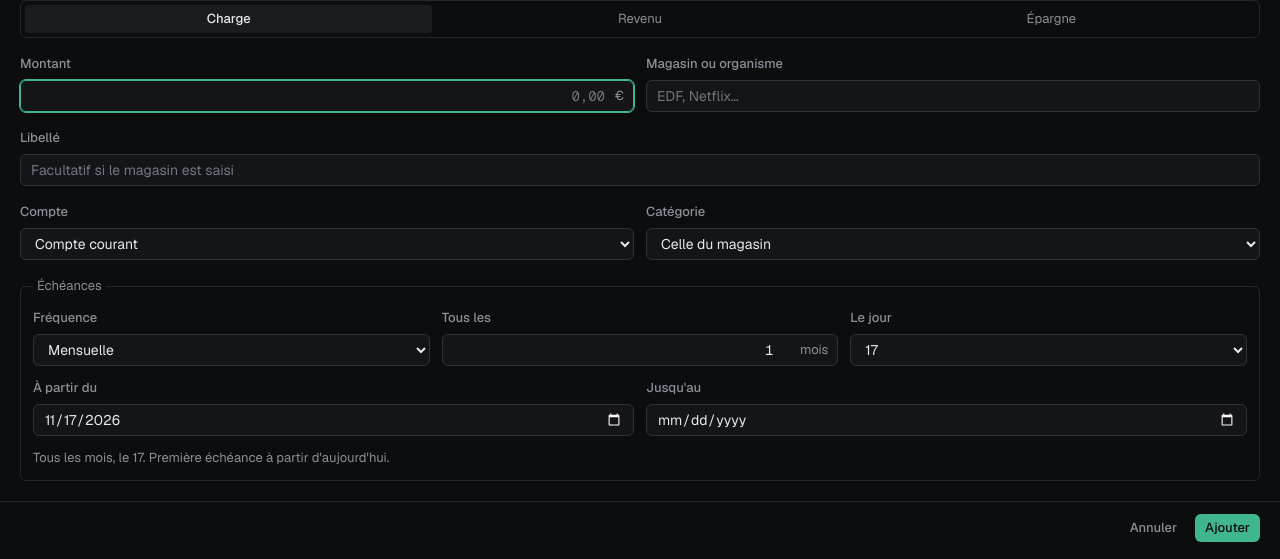
RuleForm › creates a monthly charge on the checking account and previews the schedule
Later steps or results of the test are not shown.
Type "78,40" into the field labelled "Montant".
click(327, 96); type("78,40")  # box [20, 80, 634, 112]
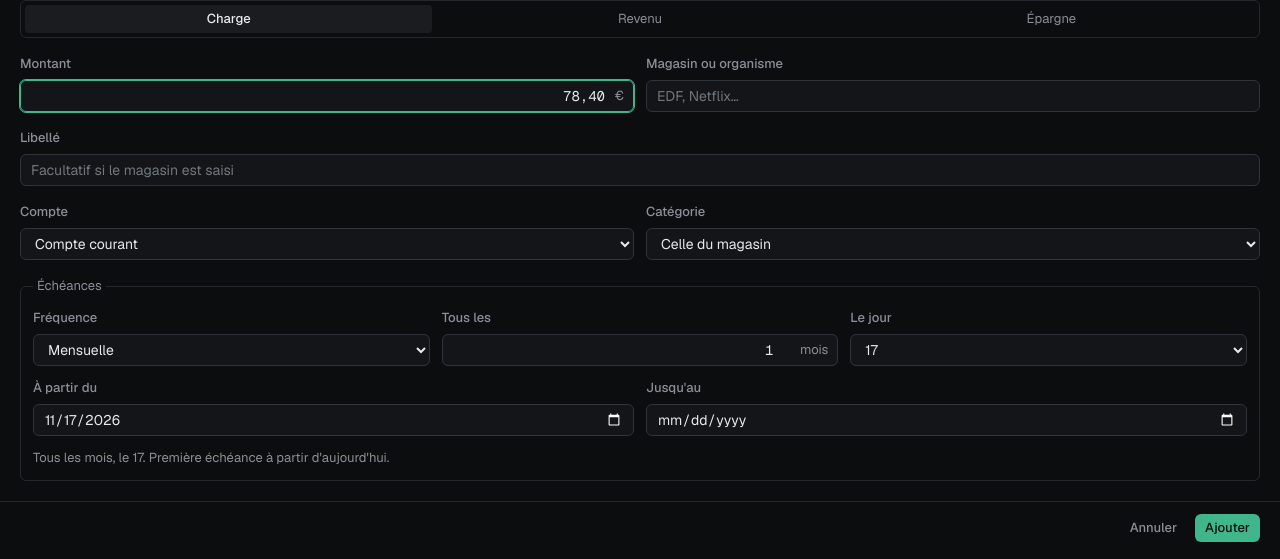
Type "EDF" into the field labelled "Magasin ou organisme".
click(953, 96); type("EDF")  # box [646, 80, 1260, 112]
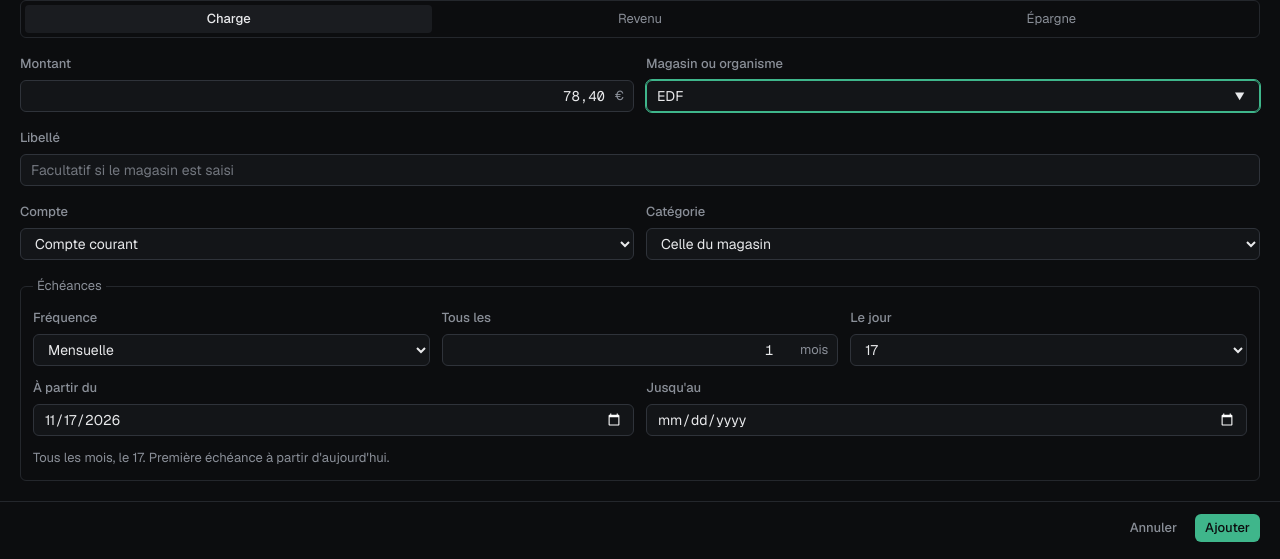
Select "8" in the dropdown labelled "Le jour" at (1049, 350), box [850, 334, 1247, 366]
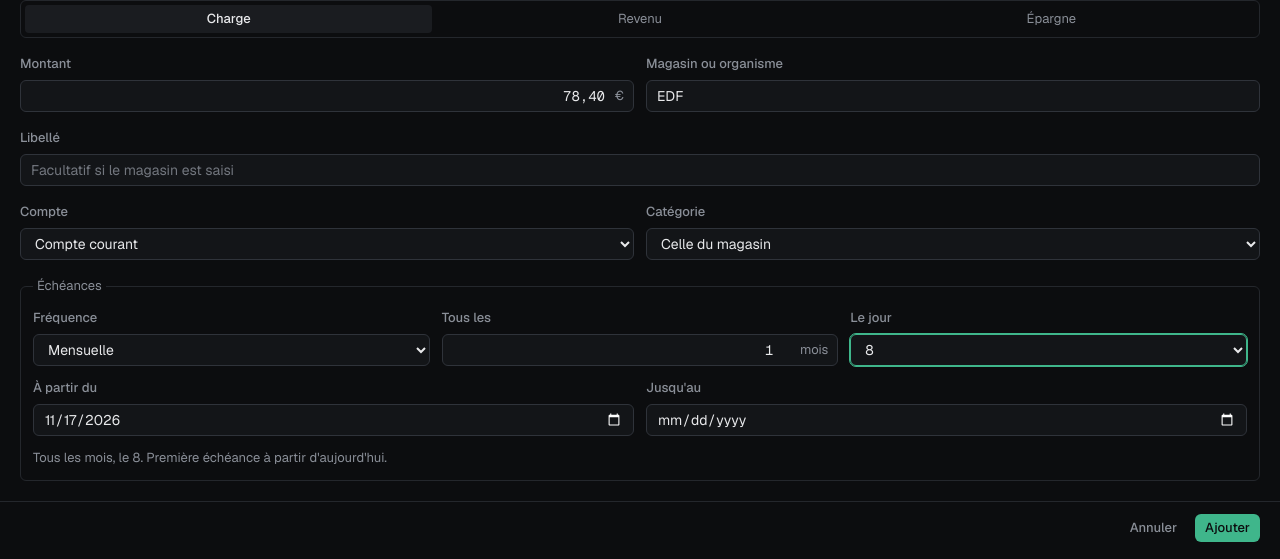
Expected: the text "Tous les mois, le 8" is shown, [33, 449, 140, 466]
